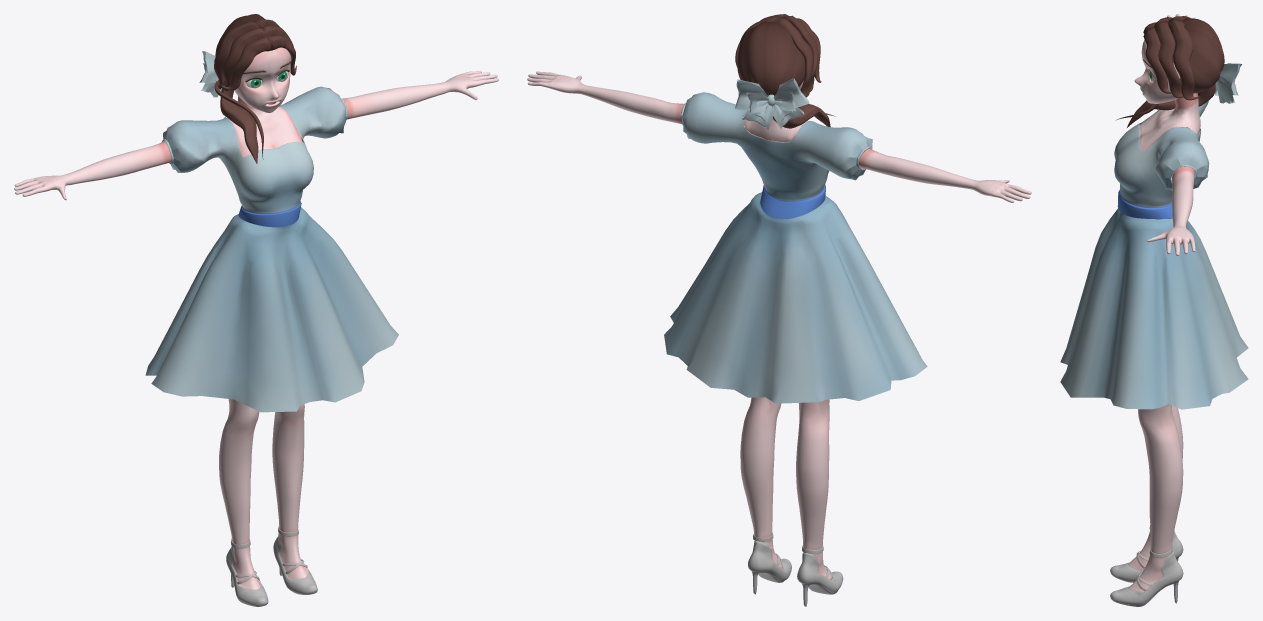
Rendered from kamyu_1124.fbx.
3 renders of one model, left to right at view 1: azimuth 30°, elevation 25°; view 2: azimuth 150°, elevation 25°; view 3: azimuth 270°, elevation 25°, orthographic. The views are drawn at different scales.
Parts seen in each view (by area): view 1: close, body, hair, face; view 2: close, body, hair; view 3: close, body, hair, face.
Part boxes in pixels (x1,y1,x2,y2): close: (145,51,398,412); body: (14,71,498,606); hair: (214,14,296,163); face: (234,47,291,112); close: (664,78,927,403); body: (527,71,1031,606); hair: (735,14,835,128); close: (1060,63,1248,409); body: (1110,14,1200,606); hair: (1115,16,1224,127); face: (1134,28,1180,103).
Bounding box in the file's own units: 160 × 178 × 53.1.
Materials: 4 (4 with a texture image).
